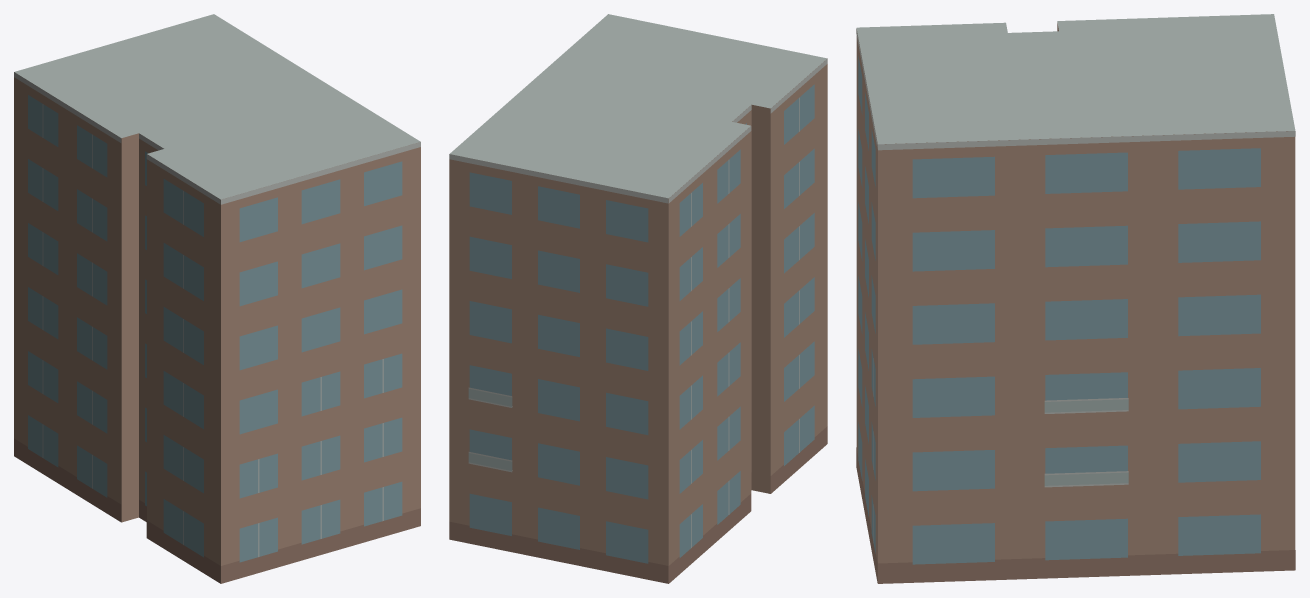
File: survey-upis-32735901.glb
3 views of the same model, side by side, from view 1: azimuth 30°, elevation 25°; view 2: azimuth 150°, elevation 25°; view 3: azimuth 270°, elevation 25° (orthographic). The views are drawn at different scales.
Parts seen in each view (by area): view 1: survey-upis-32735901.tmp; view 2: survey-upis-32735901.tmp; view 3: survey-upis-32735901.tmp.
Part boxes in pixels (left/top/right/bottom): survey-upis-32735901.tmp: left=14, top=14, right=420, bottom=583; survey-upis-32735901.tmp: left=449, top=14, right=827, bottom=583; survey-upis-32735901.tmp: left=856, top=14, right=1295, bottom=583.
Size of the model in its own units: 11.46 by 18 by 16.3.
